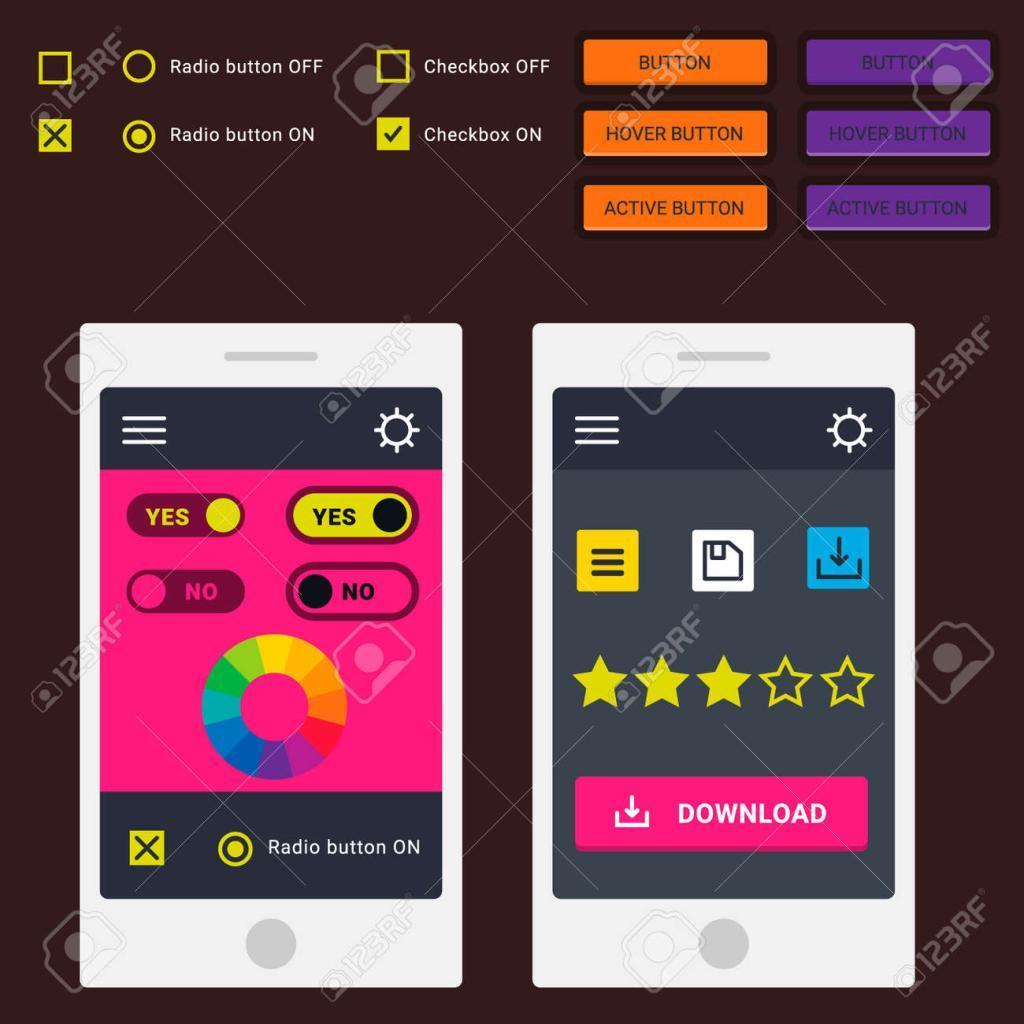button: (573, 777, 870, 851), (807, 184, 992, 234), (808, 40, 995, 88), (585, 39, 771, 87), (583, 184, 769, 231), (584, 113, 768, 159), (807, 112, 992, 156)
checkbox: (34, 46, 82, 92), (36, 110, 76, 164), (372, 112, 415, 157), (373, 50, 417, 86)
icon: (690, 527, 757, 597), (577, 528, 639, 594), (810, 530, 871, 591), (818, 652, 878, 713), (571, 657, 632, 715), (636, 651, 691, 714), (758, 652, 815, 712), (697, 650, 751, 712), (827, 404, 875, 461), (372, 405, 423, 457), (117, 411, 173, 454), (574, 411, 625, 455), (130, 828, 165, 866)
radio: (119, 48, 161, 90), (119, 118, 160, 158), (218, 831, 256, 869)
switch: (284, 483, 427, 548), (287, 561, 420, 624), (128, 565, 254, 628), (126, 493, 248, 538)
